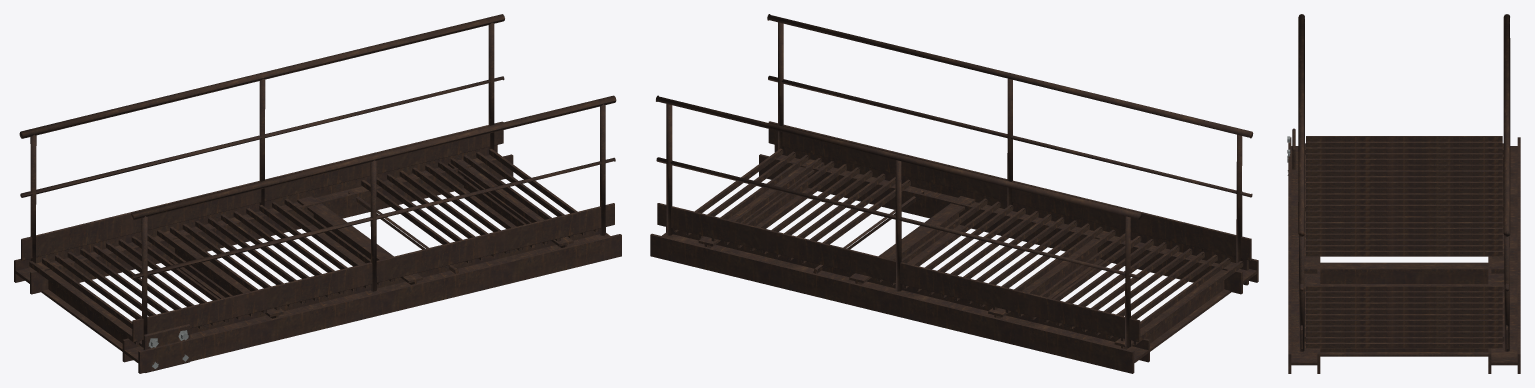
File: lod2_NOT_APPROVED.glb
The picture shows the model from 3 angles, left to right: view 1: azimuth 30°, elevation 25°; view 2: azimuth 150°, elevation 25°; view 3: azimuth 270°, elevation 25°; orthographic projection. The views are drawn at different scales.
Parts seen in each view (by area): view 1: f3_oxidized_iron_surface; view 2: f3_oxidized_iron_surface; view 3: f3_oxidized_iron_surface.
Boxes of the visible parts, bbox=[...] form: f3_oxidized_iron_surface: bbox=[14, 14, 621, 373]; f3_oxidized_iron_surface: bbox=[650, 14, 1258, 373]; f3_oxidized_iron_surface: bbox=[1288, 14, 1520, 373].
Size of the model in its own units: 4 by 1.26 by 1.82.
Materials: 2 (2 with a texture image).
